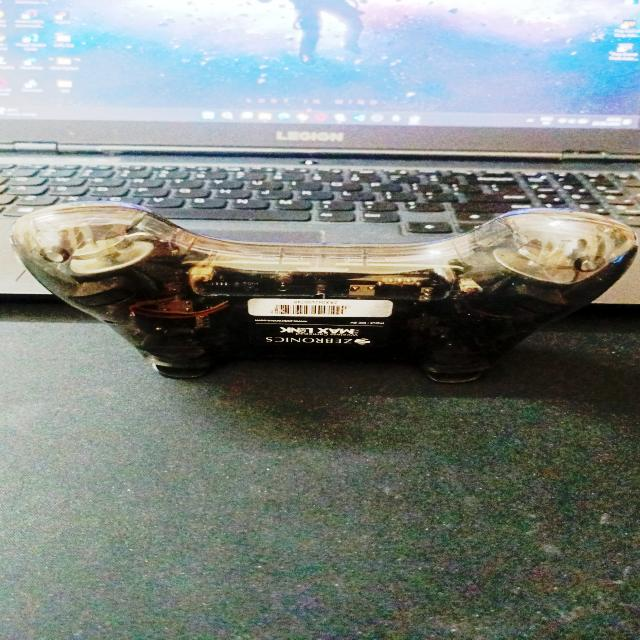gamepad: (10, 199, 636, 384)
